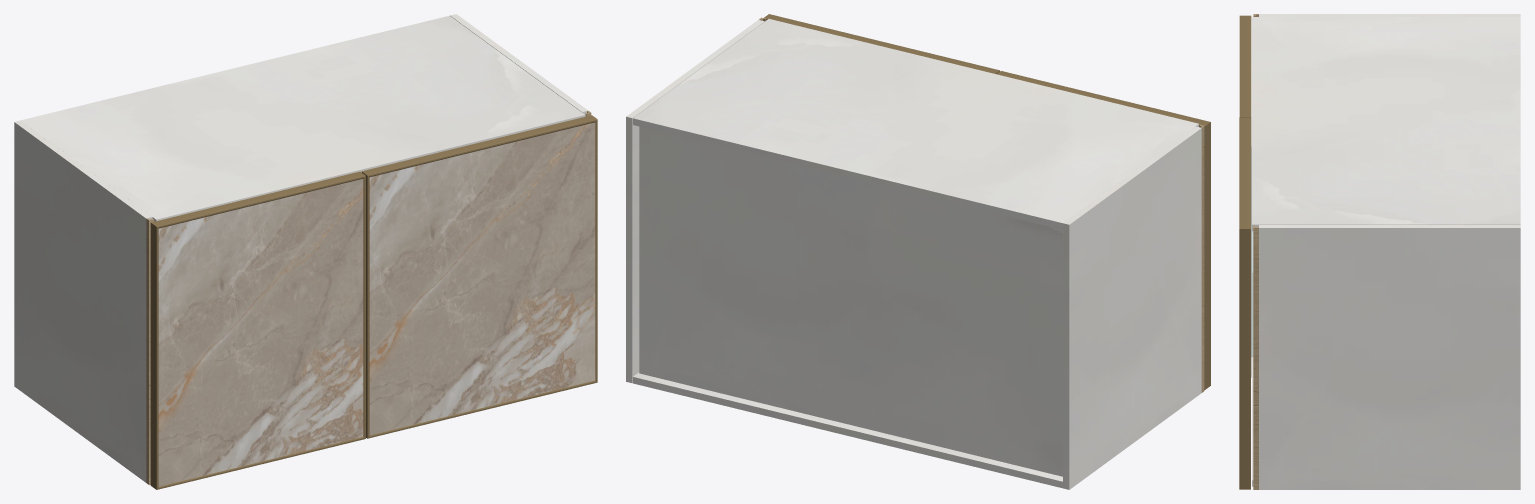
Rendered from LBF-SH-STD-ST-1SX-LHS-XXX-1050-600-560-15.glb.
The picture shows the model from 3 angles, left to right: view 1: azimuth 30°, elevation 25°; view 2: azimuth 150°, elevation 25°; view 3: azimuth 270°, elevation 25°; orthographic projection.
Visible parts, largest first — view 1: Object_node_6, TP, Object_node_4, TP_node_0, Extrusion_node_1, Extrusion_node_2, Extrusion, Object_node_8, Extrusion_node_5, TP_node_1, Extrusion_node, Extrusion_node_3 (+2 smaller); view 2: TP_node_2, TP, TP_node_0, TP_node, TP_node_1, Extrusion_node_1, Extrusion_node_2, Extrusion, Object_node_8; view 3: TP_node_1, TP, Extrusion_node_3, Object_node_14, Extrusion_node_2, Extrusion, TP_node_0, TP_node.
Part boxes in pixels (<box>): Object_node_6: <box>369,122,595,435</box>; TP: <box>21,15,585,221</box>; Object_node_4: <box>158,179,363,486</box>; TP_node_0: <box>14,120,152,482</box>; Extrusion_node_1: <box>150,223,158,489</box>; Extrusion_node_2: <box>362,115,597,177</box>; Extrusion: <box>151,171,365,228</box>; Object_node_8: <box>146,218,154,484</box>; Extrusion_node_5: <box>361,172,369,438</box>; TP_node_1: <box>450,14,587,116</box>; Extrusion_node: <box>363,176,365,438</box>; Extrusion_node_3: <box>595,120,597,381</box>; TP_node_2: <box>639,126,1062,476</box>; TP: <box>633,19,1198,229</box>; TP_node_0: <box>1063,126,1201,489</box>; TP_node: <box>633,372,1062,488</box>; TP_node_1: <box>626,20,764,383</box>; Extrusion_node_1: <box>1204,122,1210,389</box>; Extrusion_node_2: <box>763,14,999,73</box>; Extrusion: <box>996,71,1210,125</box>; Object_node_8: <box>1199,124,1204,392</box>; TP_node_1: <box>1259,225,1520,489</box>; TP: <box>1252,17,1520,231</box>; Extrusion_node_3: <box>1239,229,1250,489</box>; Object_node_14: <box>1253,225,1258,489</box>; Extrusion_node_2: <box>1239,117,1250,228</box>; Extrusion: <box>1239,15,1251,116</box>; TP_node_0: <box>1259,14,1520,16</box>; TP_node: <box>1252,272,1253,486</box>.
Size of what is drawn, in the model's own units: 1.05 by 0.6001 by 0.5842.
Materials: 7 (3 with a texture image).
